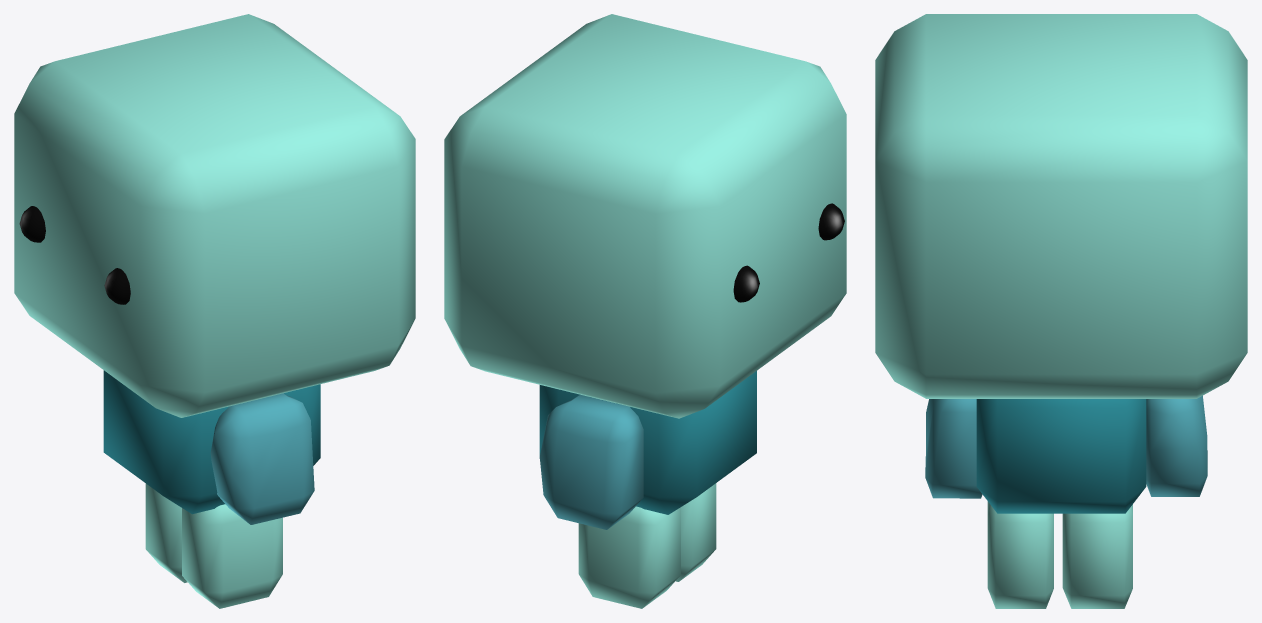
File: BlockyPerson.FBX
3 views of the same model, side by side, from view 1: azimuth 30°, elevation 25°; view 2: azimuth 150°, elevation 25°; view 3: azimuth 270°, elevation 25° (orthographic). The views are drawn at different scales.
Visible parts, largest first — view 1: Box002; view 2: Box002; view 3: Box002.
Part boxes in pixels (left/top/right/bottom): Box002: left=14, top=14, right=415, bottom=608; Box002: left=444, top=14, right=846, bottom=608; Box002: left=875, top=14, right=1247, bottom=608.
Size of the model in its own units: 18.99 by 31.06 by 19.68.
